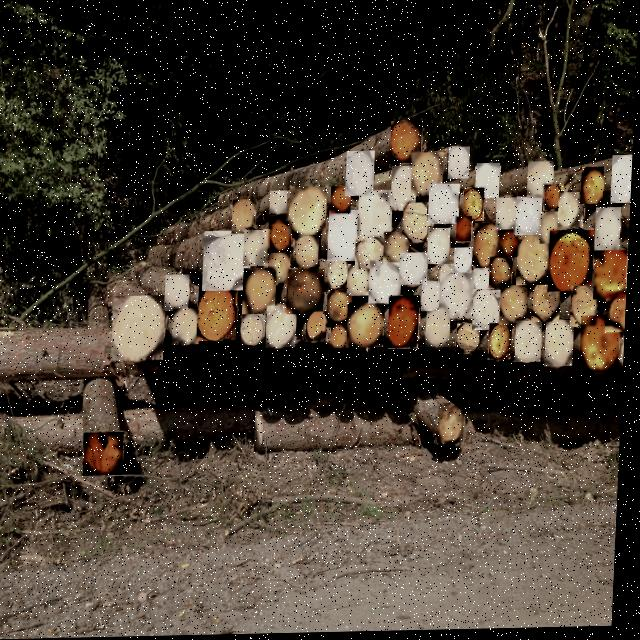wood-log: (116, 297, 168, 360), (206, 232, 253, 292), (551, 233, 596, 294), (584, 319, 623, 375), (201, 287, 240, 342), (291, 188, 329, 237), (330, 212, 364, 263), (360, 192, 394, 242), (519, 236, 553, 286), (88, 433, 127, 476), (290, 271, 327, 316), (351, 304, 387, 349), (597, 253, 630, 301), (246, 270, 279, 315), (392, 299, 421, 350), (443, 276, 475, 321), (413, 155, 445, 198), (372, 263, 404, 305), (347, 152, 376, 198), (549, 323, 577, 369), (269, 307, 299, 348), (392, 123, 422, 164), (476, 225, 503, 270), (535, 282, 563, 324), (431, 186, 460, 225), (405, 205, 434, 243), (476, 292, 503, 332), (598, 210, 623, 253), (393, 169, 418, 211), (574, 289, 600, 329), (503, 288, 530, 326), (519, 324, 544, 365), (518, 200, 544, 238), (176, 310, 203, 346), (442, 408, 468, 445), (613, 158, 633, 206), (246, 231, 272, 267), (358, 240, 388, 270), (530, 164, 555, 200), (429, 311, 453, 348), (167, 276, 192, 311), (402, 255, 430, 286), (561, 195, 584, 231), (330, 292, 355, 325), (477, 166, 501, 200), (609, 295, 629, 335), (430, 230, 452, 266), (493, 326, 515, 362), (244, 314, 268, 346), (297, 237, 321, 269), (584, 171, 605, 207), (386, 234, 411, 264), (270, 223, 294, 254), (235, 201, 257, 234), (271, 254, 293, 285), (460, 326, 483, 355), (466, 191, 486, 224), (351, 267, 372, 298), (450, 149, 470, 181), (543, 214, 563, 246), (424, 284, 445, 313), (492, 261, 513, 290), (499, 200, 518, 232), (309, 314, 330, 341), (333, 188, 353, 215), (330, 262, 350, 288), (502, 232, 520, 260), (547, 187, 566, 212), (476, 270, 494, 295), (456, 251, 474, 276), (272, 192, 289, 214), (334, 327, 350, 350), (459, 219, 473, 244), (258, 414, 267, 452), (441, 267, 456, 289)
